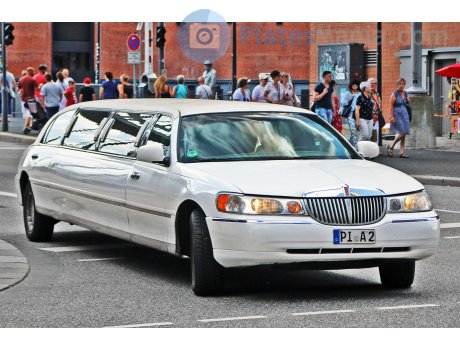License Plates: (334, 228, 380, 239)
